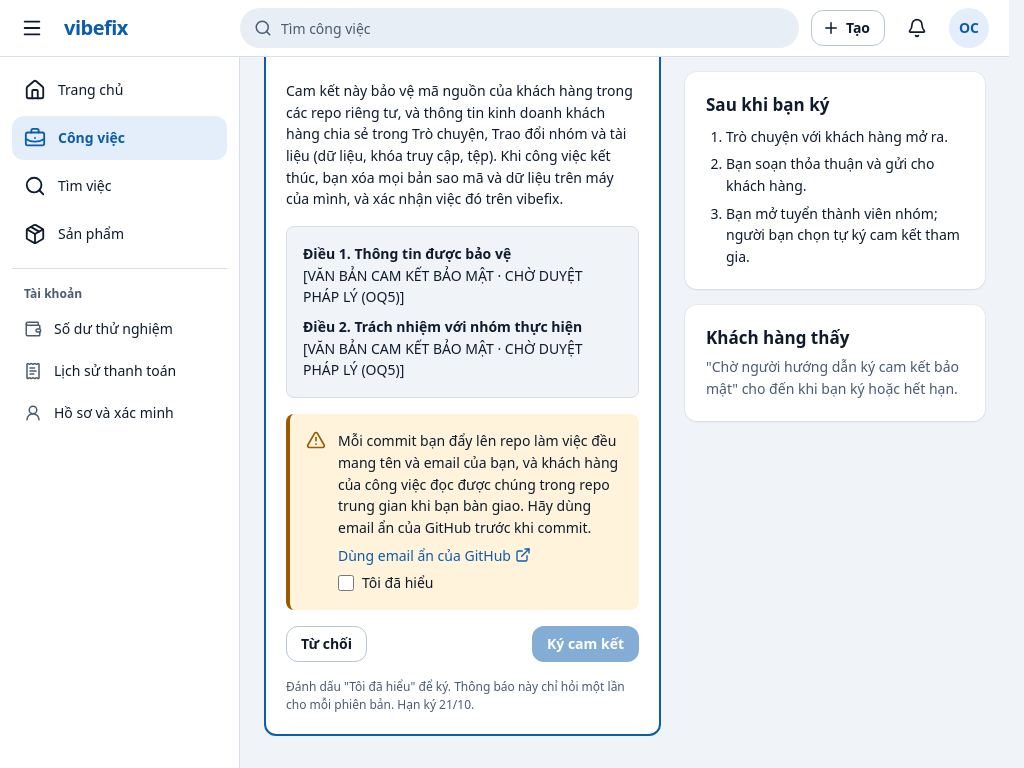
Test: JOB-1 for the selected Mentor, the NDA panel (FR-15, FR-18) › shows N-14, the NDA version, and N-23, and signs once "Tôi đã hiểu" is ticked
(page scrolled)
Check: the heading "Cam kết bảo mật (NDA) · phiên bản 2.0" is shown, box [286, 8, 639, 64]
Check: the text "bảo vệ mã nguồn của khách hàng trong các repo riêng tư" is shown, box [286, 81, 633, 208]
Step 1. Click the checkbox labelled "Tôi đã hiểu" → (346,583), box [338, 575, 354, 591]
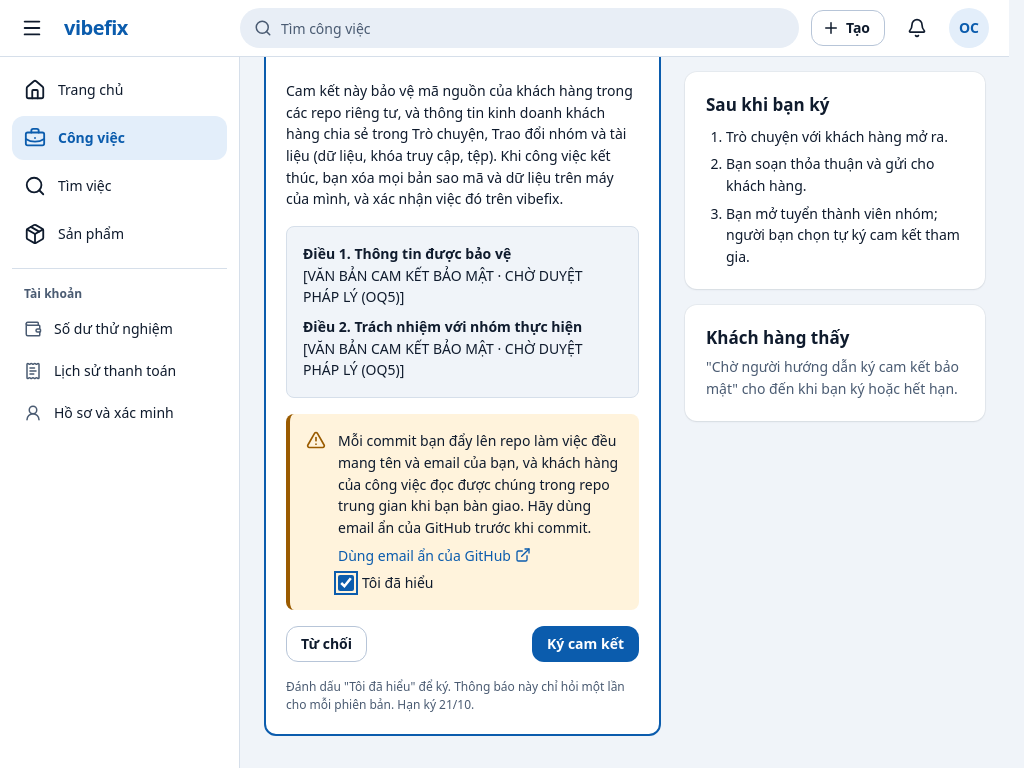
Step 2. Click the button "Ký cam kết" → (586,644), box [532, 626, 639, 662]
(page scrolled)
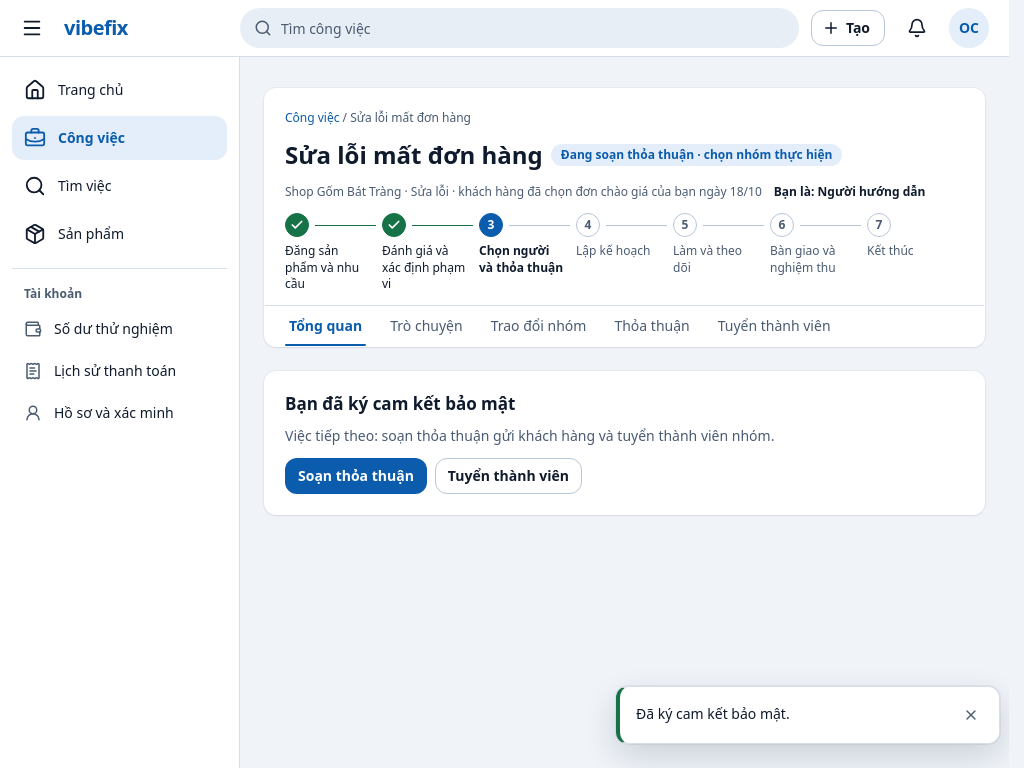
Check: the heading "Bạn đã ký cam kết bảo mật" is shown, box [285, 392, 516, 415]
